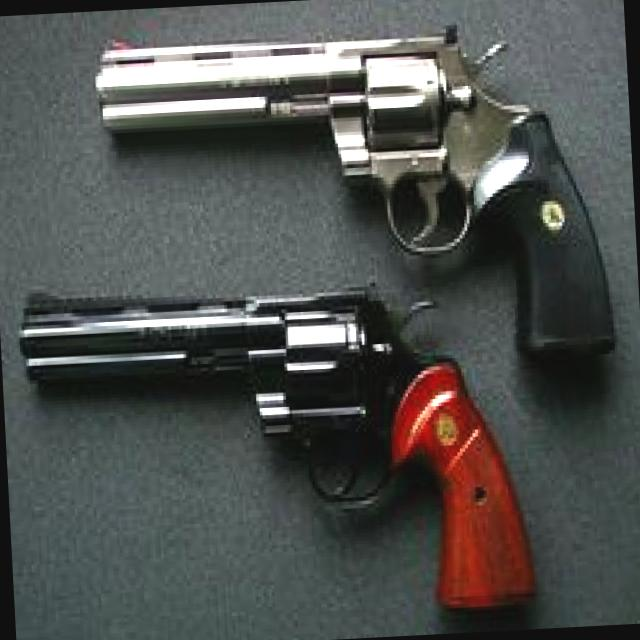revolver: (0, 250, 557, 640)
